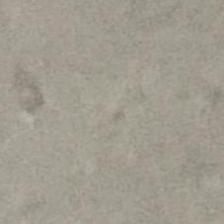Non_Crack: (45, 45, 224, 224)
